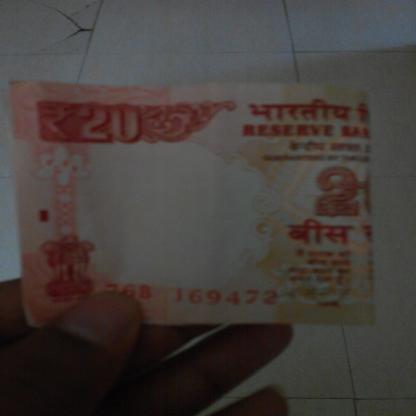Old20Front: (8, 78, 373, 329)
